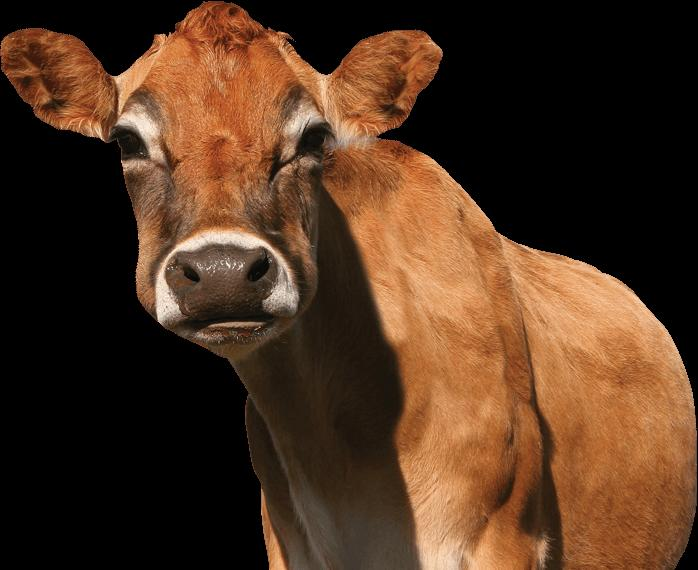muzzles: (142, 235, 304, 355)
